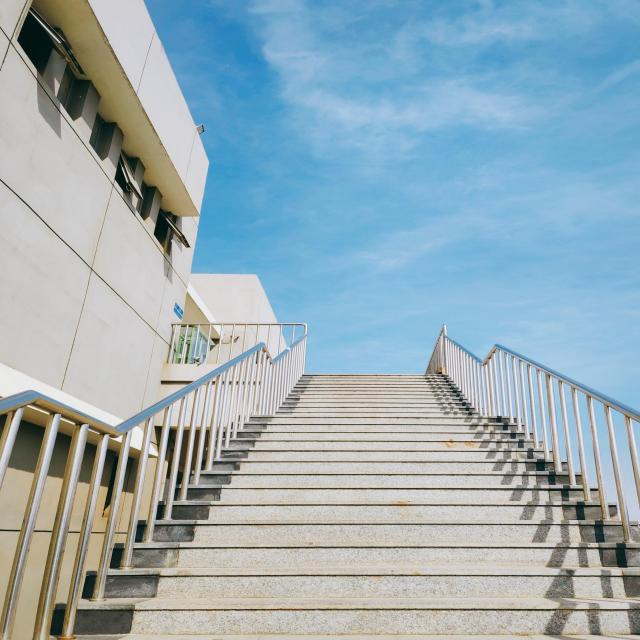Staircase: (190, 314, 632, 640)
